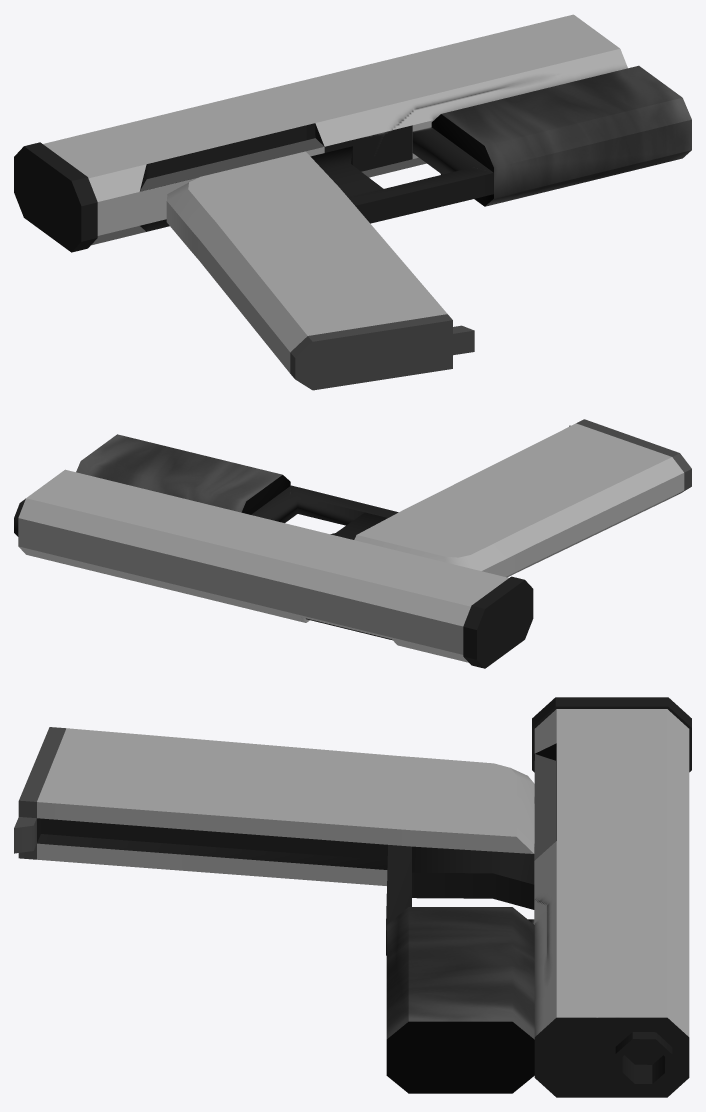
Rendered from Pistola.fbx.
3 renders of one model, top to bottom at view 1: azimuth 30°, elevation 25°; view 2: azimuth 150°, elevation 25°; view 3: azimuth 270°, elevation 25°, orthographic. The views are drawn at different scales.
Visible parts, largest first — view 1: Pistola; view 2: Pistola; view 3: Pistola.
Boxes of the visible parts, <box> form: Pistola: <box>14,14,691,390</box>; Pistola: <box>14,419,691,668</box>; Pistola: <box>14,697,691,1097</box>.
Size of the model in its own units: 348 by 42.32 by 306.
Materials: 1 (1 with a texture image).
